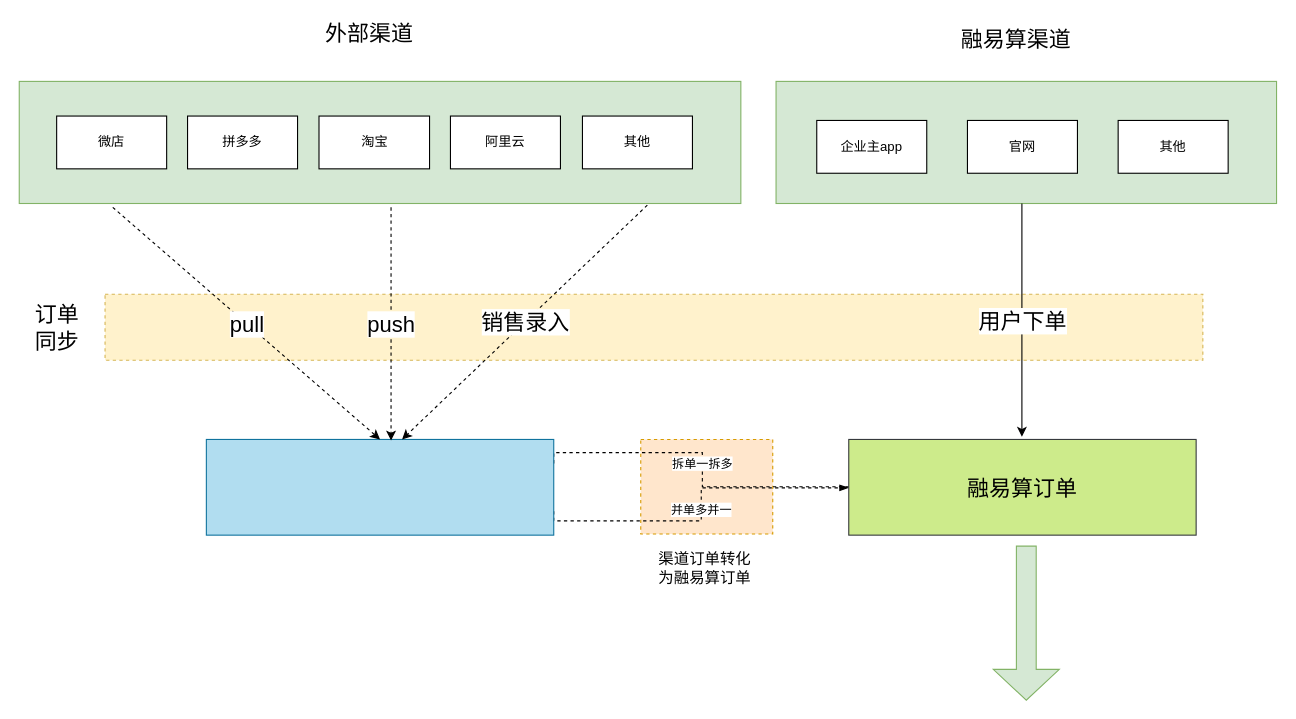
The diagram is 1296 pixels wide and 719 high, and some of its shapes have lost their labels. Each missing label, with the centre of its shape:
渠道订单: (x=379, y=486)
销 售 跟 进: (x=1025, y=622)
